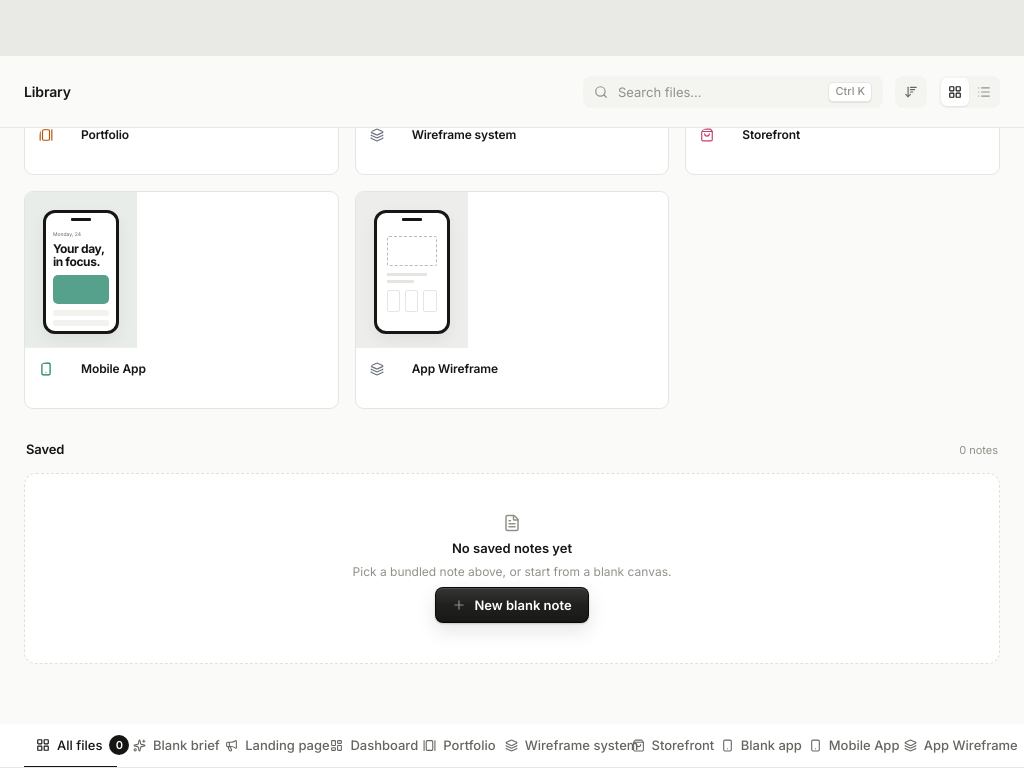
Test: ProjectLake saved projects › shows the empty state and its blank-canvas entry point
(page scrolled)
Expected: the text "No saved notes yet" is shown, [452,540,572,556]
Click the button with test id "start-brainstorming". click: (512, 605)
box: [435,587,589,623]
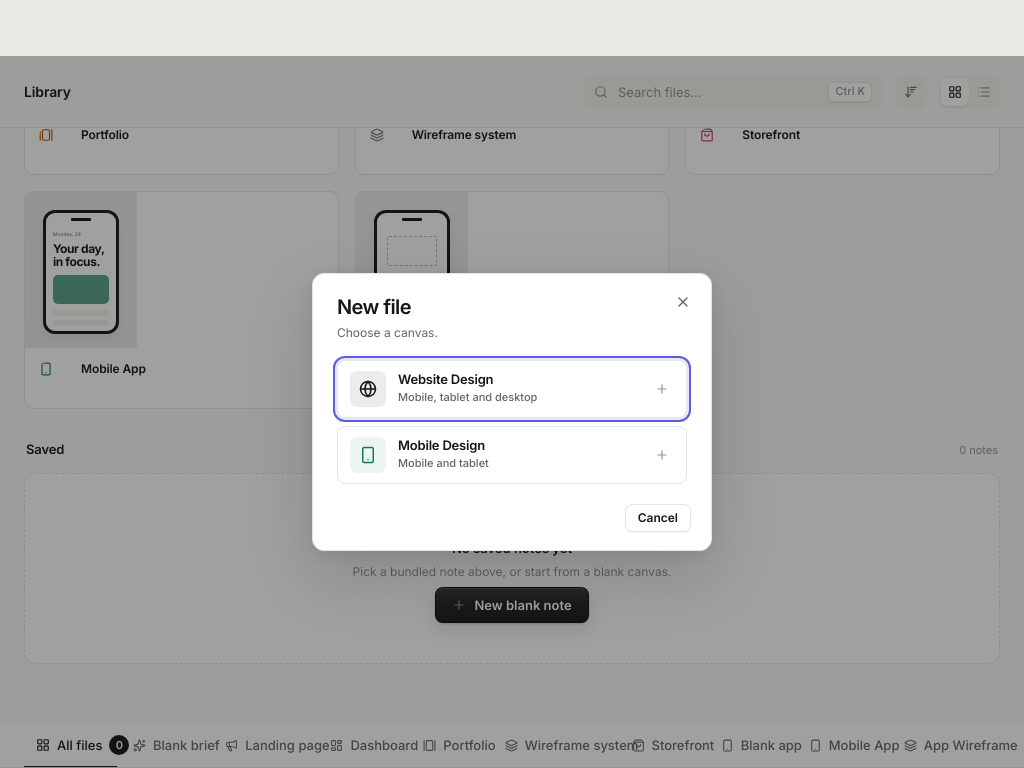
Now the dialog with test id "blank-chooser" is shown, box [312,273,712,551]
